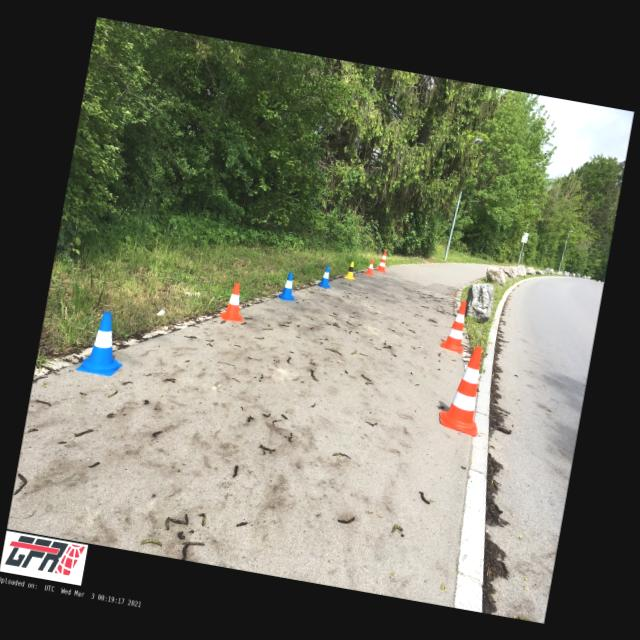blue_cone: (76, 308, 130, 377), (277, 270, 300, 302), (316, 264, 334, 289)
large_orange_cone: (436, 341, 492, 436), (440, 298, 470, 353), (376, 248, 390, 272)
orange_cone: (218, 281, 250, 323), (364, 258, 376, 276)
yellow_cone: (343, 260, 357, 280)
